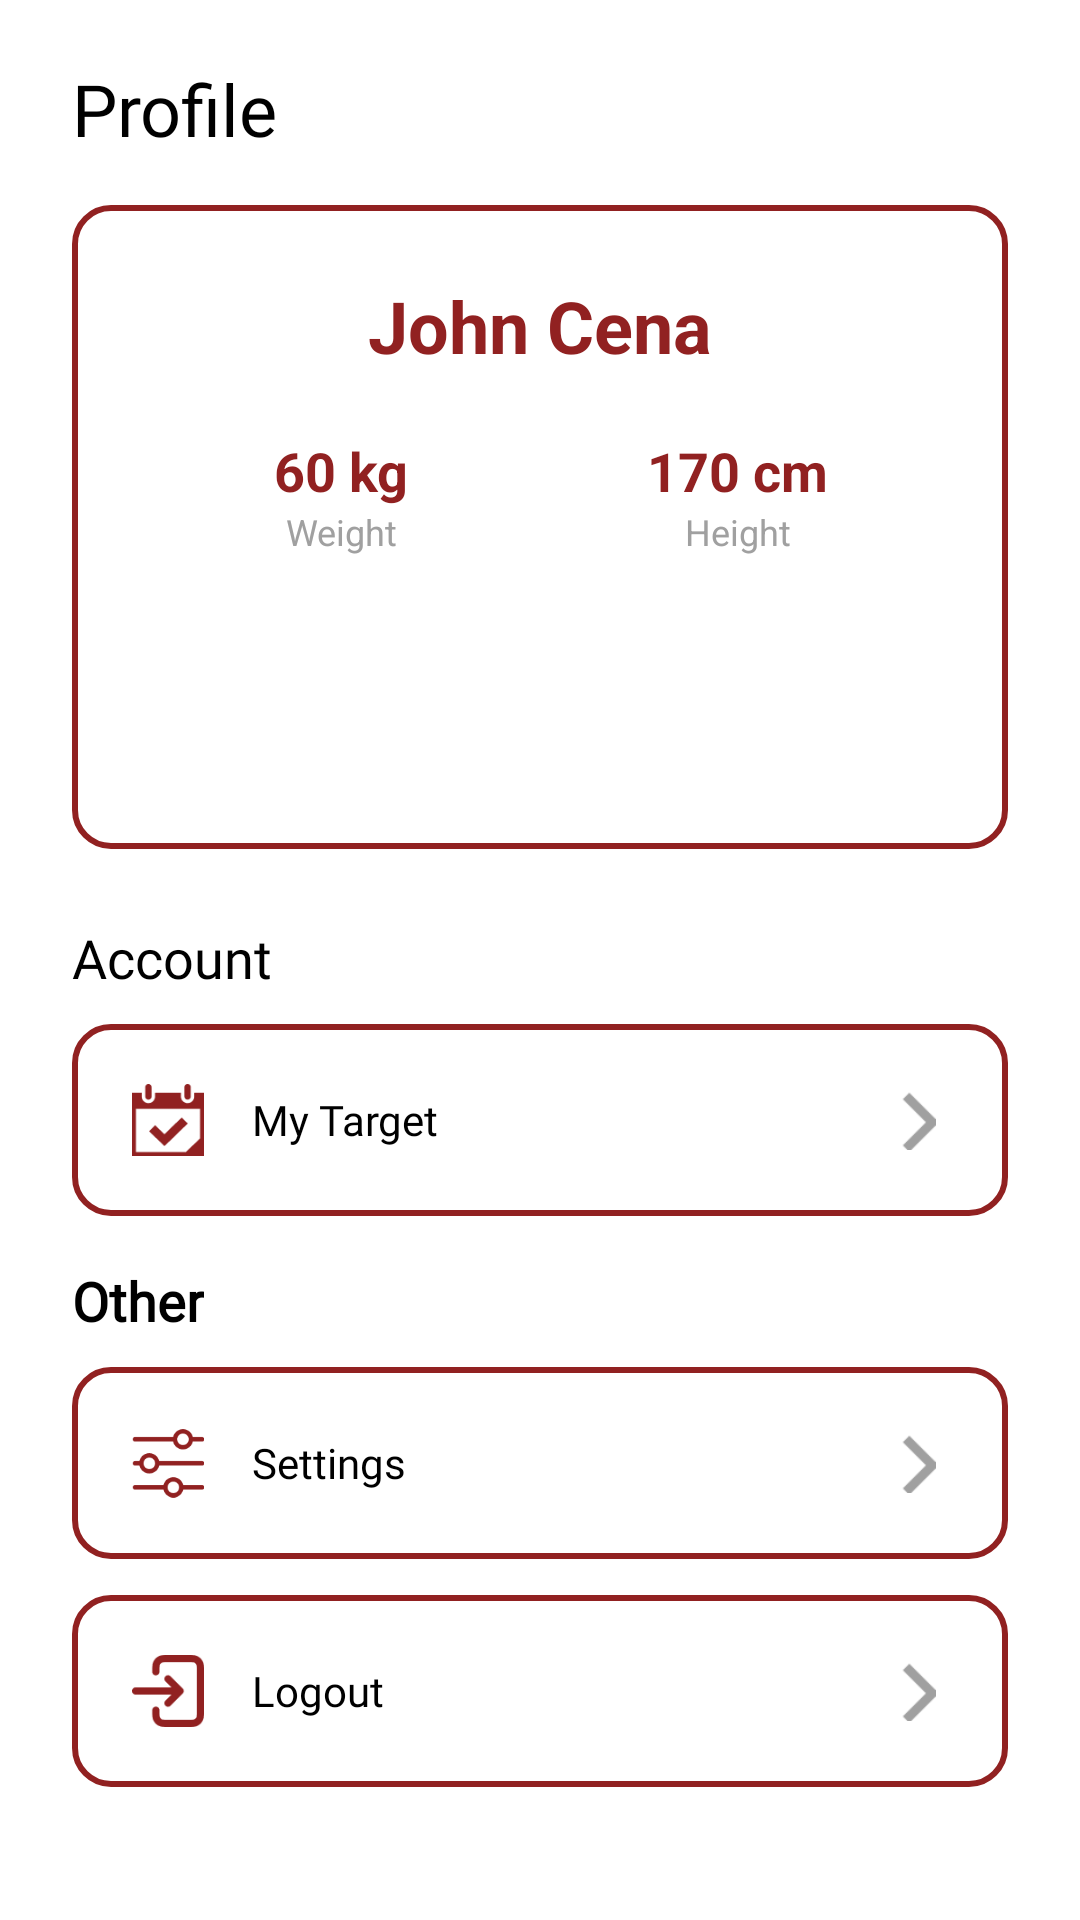

Screen size 1080*1920. Icon name, then its box in pixels as (x1, y1, x2, y2):
next: (903, 1093, 936, 1150), (903, 1436, 936, 1493), (903, 1664, 936, 1721)
